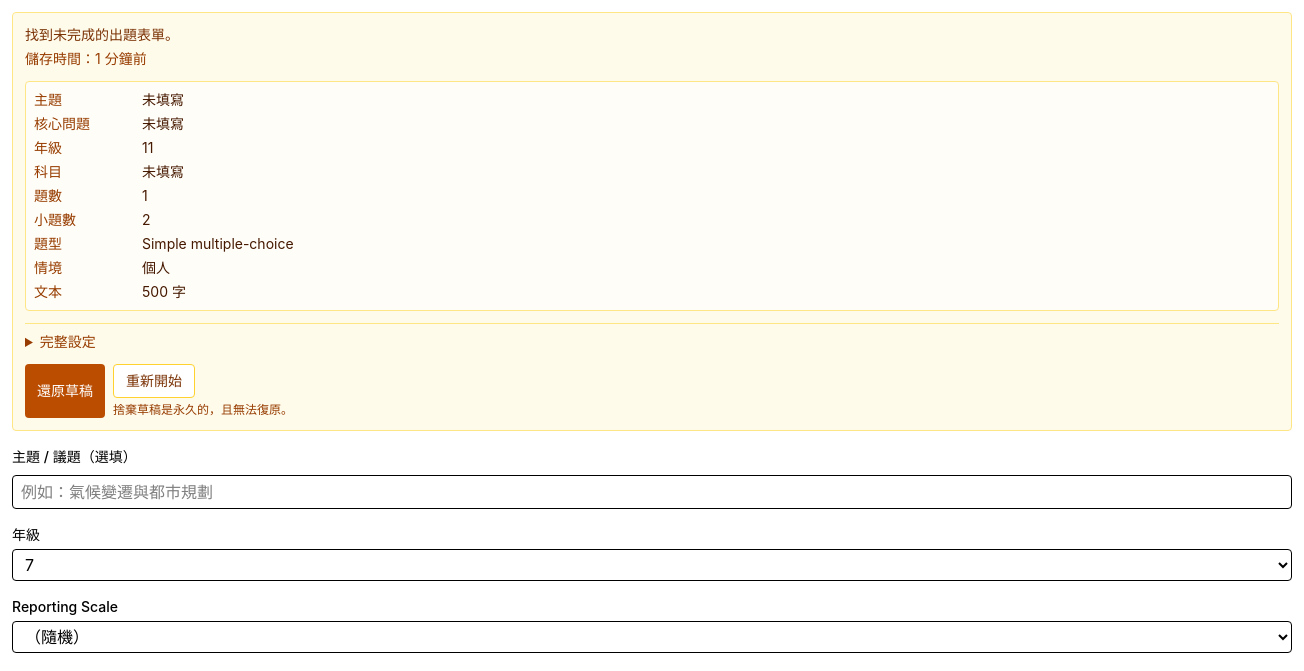
ParamForm draft restoration across learning stages › restores grade 11 全域池 and 各小題配置 codes when the grade-less pool answers first
This screenshot has width=1304, height=671.
Expected: the text "找到未完成的出題表單。" is shown, [25, 26, 179, 43]
Click the button "還原草稿".
click(65, 391)  # box [25, 364, 105, 418]
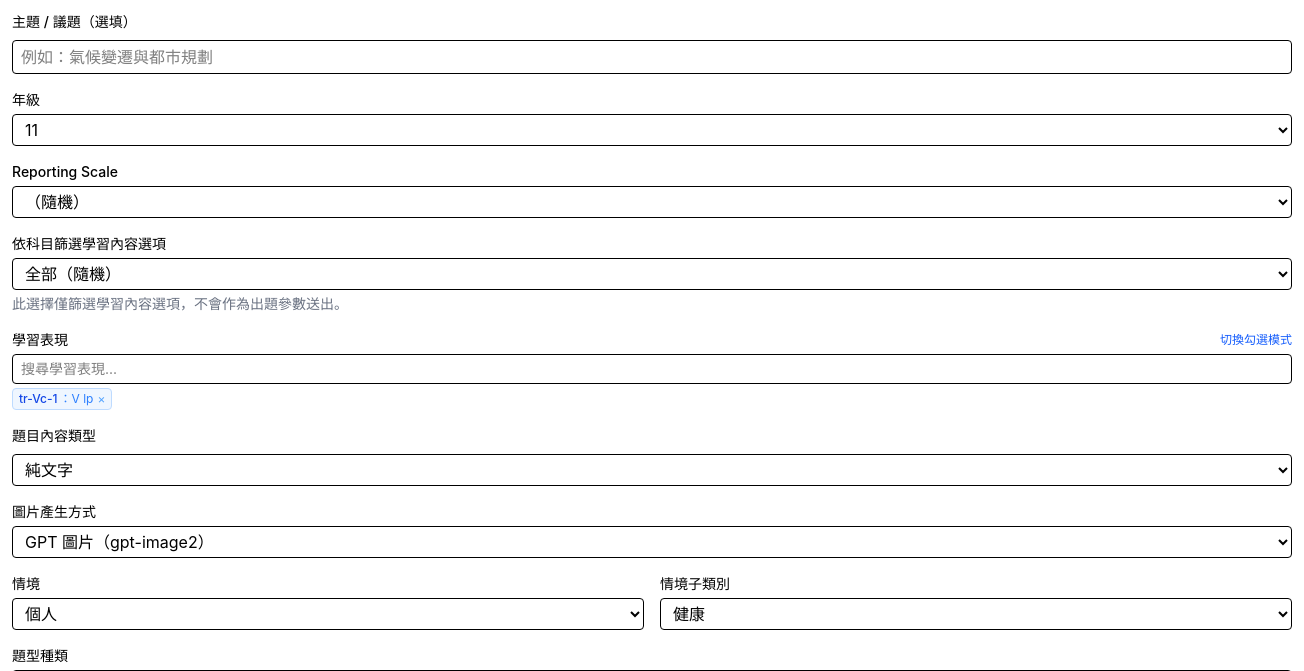
Result: the dropdown labelled "年級" shows "11" at [12, 114, 1292, 146]
Type "-" into the field with placeholder "搜尋學習表現...".
click(652, 369); type("-")  # box [12, 354, 1292, 384]
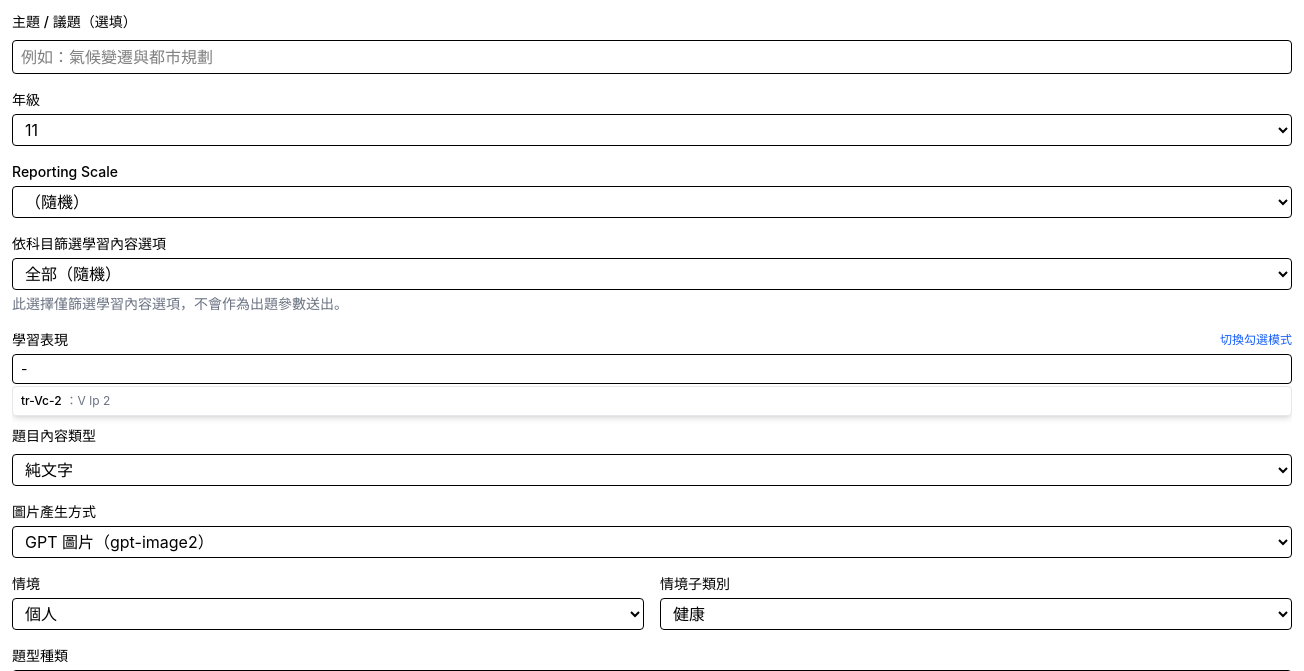
Result: the button "tr-Vc-2：V lp 2" is shown at [13, 387, 1291, 415]
